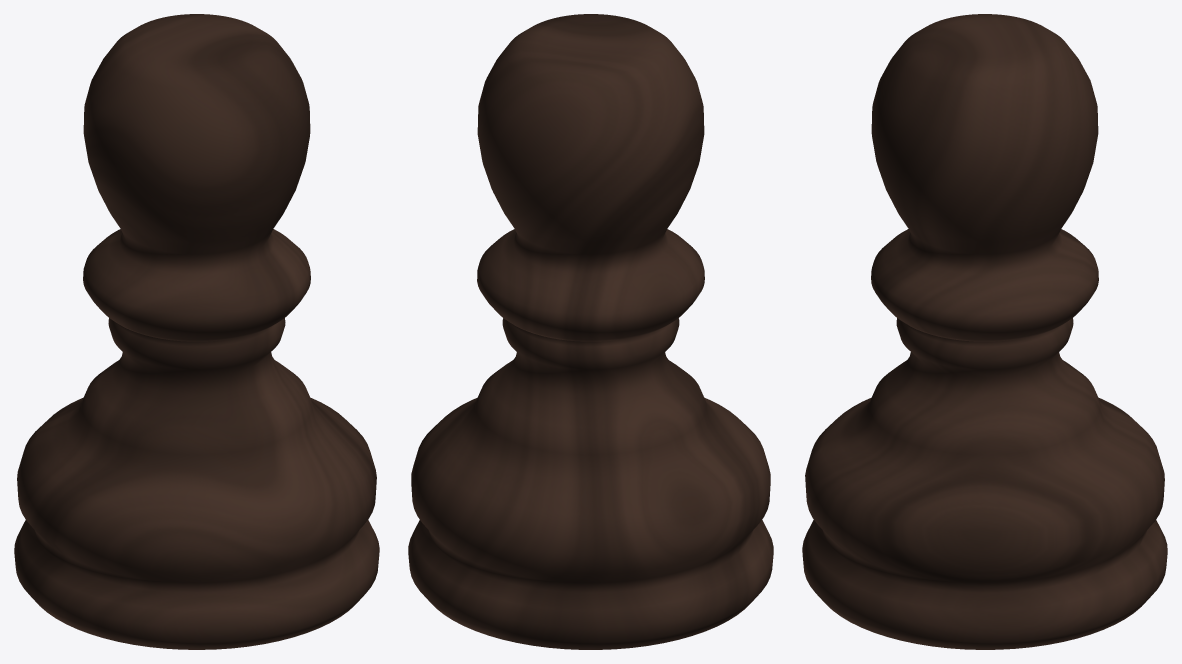
Rendered from blackPawn.fbx.
3 views of the same model, side by side, from view 1: azimuth 30°, elevation 25°; view 2: azimuth 150°, elevation 25°; view 3: azimuth 270°, elevation 25° (orthographic).
Visible parts, largest first — view 1: blackPawn; view 2: blackPawn; view 3: blackPawn.
Boxes of the visible parts, x1,y1,x2,y2 form: blackPawn: [14, 14, 379, 649]; blackPawn: [408, 14, 773, 649]; blackPawn: [802, 14, 1167, 649].
Bounding box in the file's own units: 61.34 × 100 × 61.34.
1 material, 1 textured.
